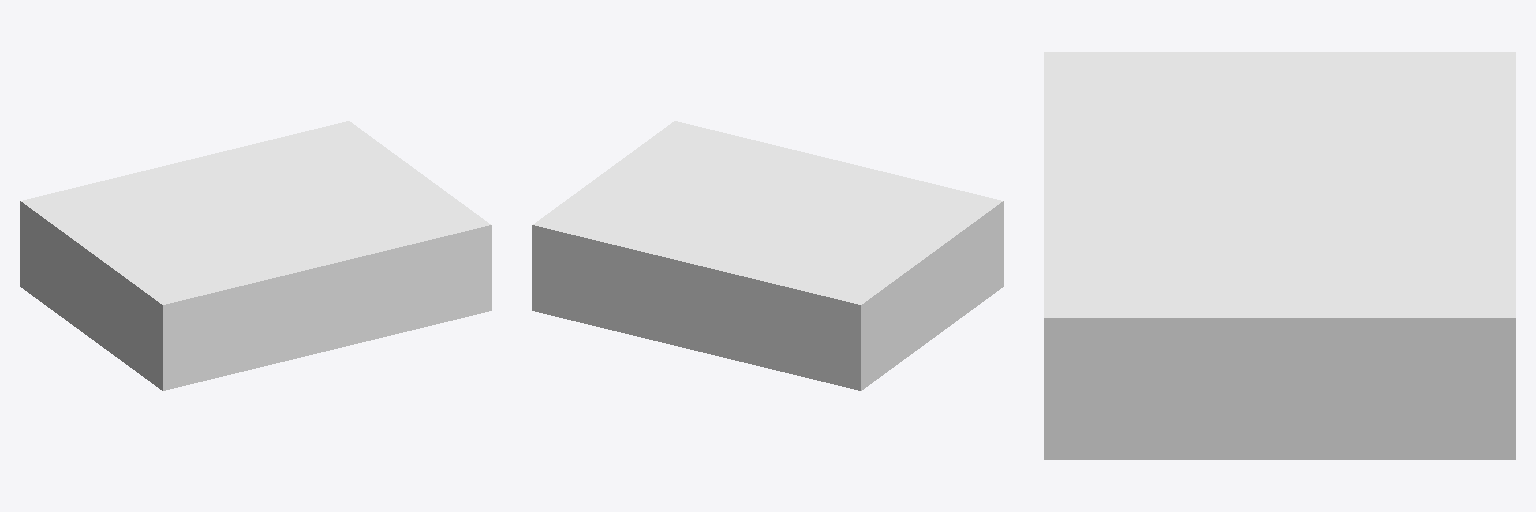
URDF robot description (cube):
<?xml version="1.0" ?>
<robot name="cube">
  <link name="baseLink">
    <contact>
      <lateral_friction value="1.0"/>
      <rolling_friction value="0.0"/>
      <contact_cfm value="0.0"/>
      <contact_erp value="1.0"/>
    </contact>
    <inertial>
      <origin rpy="0 0 0" xyz="0 0 0"/>
       <mass value="1.0"/>
       <inertia ixx="1" ixy="0" ixz="0" iyy="1" iyz="0" izz="1"/>
    </inertial>
    <visual>
      <origin rpy="0 0 0" xyz="2 -1.5 -0.5"/>
      <geometry>
				<mesh filename="body.obj" scale=".1 .1 .1"/>
      </geometry>
       <material name="white">
        <color rgba="1 1 1 1"/>
      </material>
    </visual>
    <collision>
      <origin rpy="0 0 0" xyz="0 0 0"/>
      <geometry>
	 	<box size="4 3 1"/>
      </geometry>
    </collision>
  </link>
</robot>

--- Render facts (derived) ---
Views: 3 orthographic renders of the robot side by side, from view 1: azimuth 30°, elevation 25°; view 2: azimuth 150°, elevation 25°; view 3: azimuth 270°, elevation 25°.
Model cube with 1 links and 0 joints (none), rooted at baseLink, posed every joint at zero.
Visible links, largest first — view 1: baseLink; view 2: baseLink; view 3: baseLink.
Boxes of the visible links, x1,y1,x2,y2 form: baseLink: (20,121,491,390); baseLink: (532,121,1003,390); baseLink: (1044,52,1515,459).
Size in the robot's own frame: 4 by 3 by 1 metres.
Meshes: 1 distinct files referenced, 1 mesh visuals loaded (1 OBJ).
